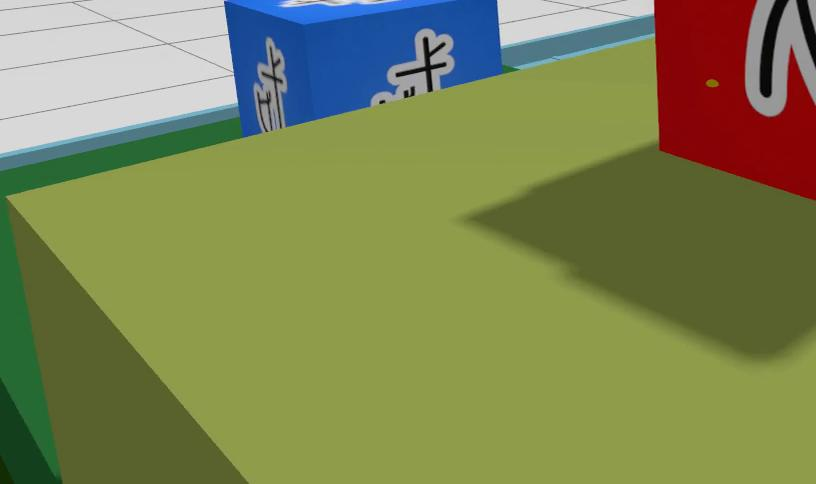KFS_FAKE: (651, 0, 816, 201), (744, 0, 816, 115)
KFS_REAL: (223, 0, 504, 135), (372, 28, 454, 104), (252, 37, 287, 132), (291, 0, 347, 7), (356, 0, 400, 4), (284, 0, 293, 3), (281, 3, 284, 7)
